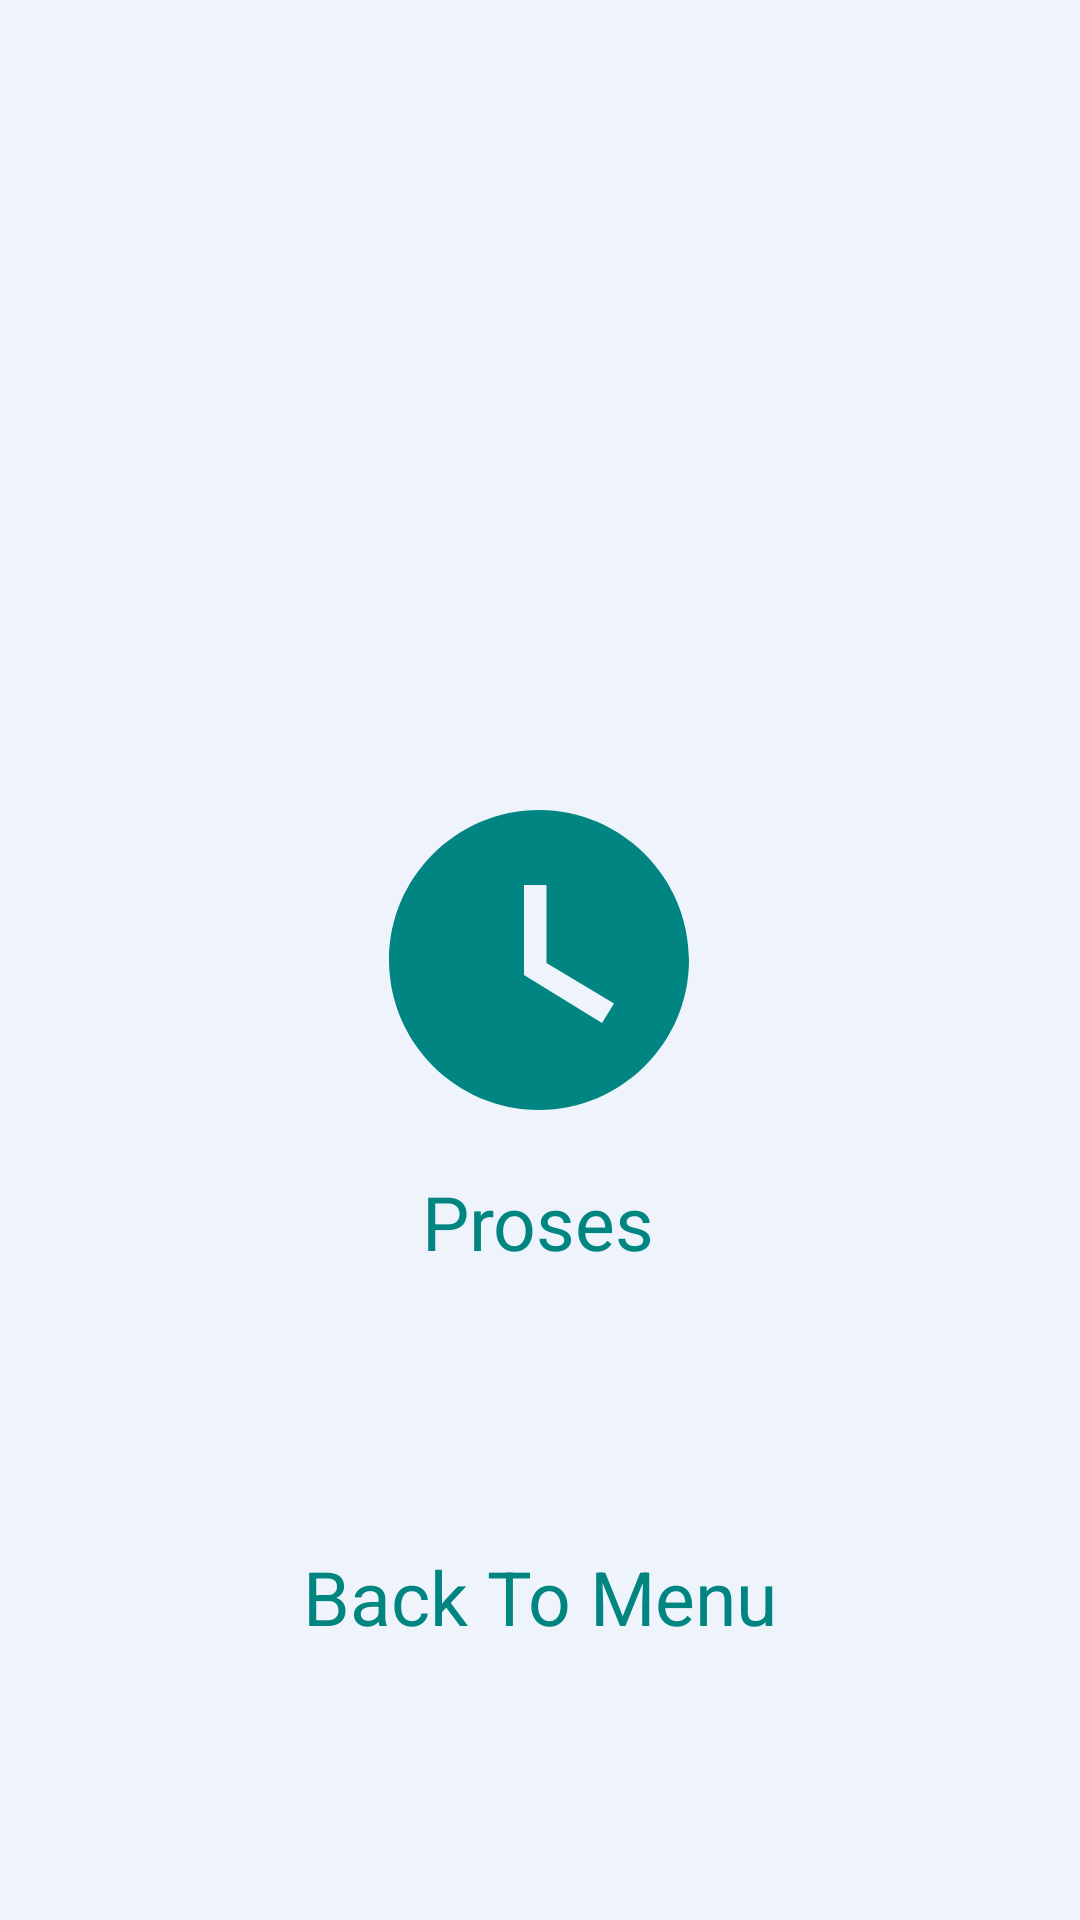

Icon click points for this 1080 × 1920 phone screenshot, format (x,y):
watch later: (539,960)
